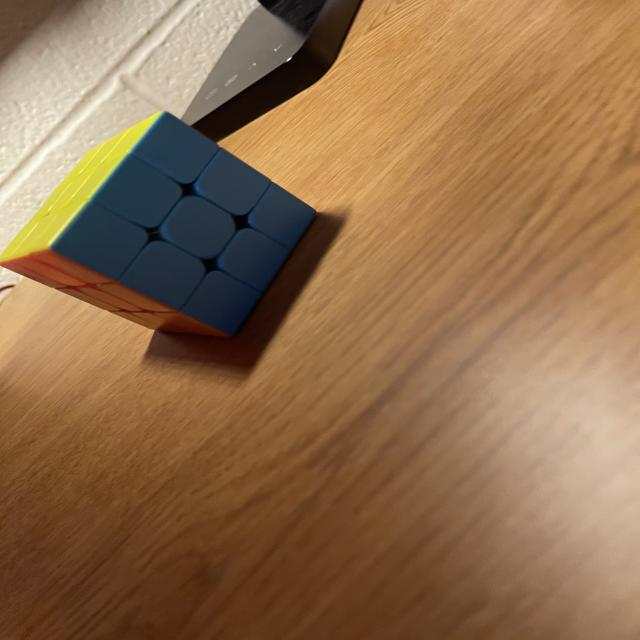Rubiks Cube: (0, 112, 314, 333)
